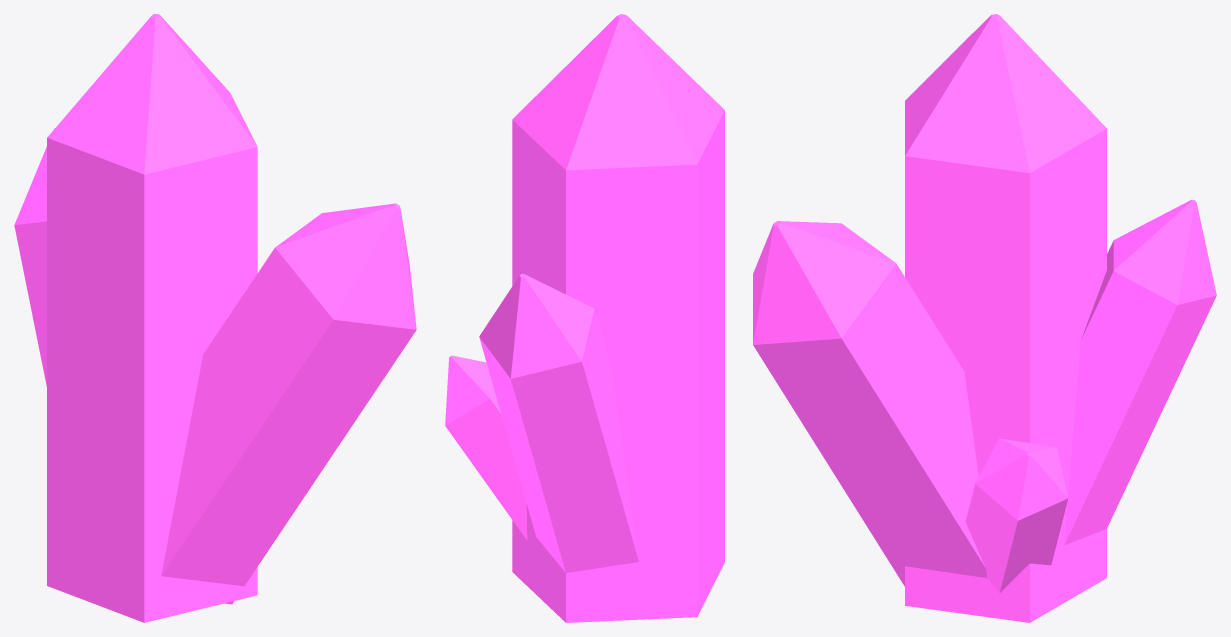
Rendered from Cryatal_1.glb.
The picture shows the model from 3 angles, left to right: view 1: azimuth 30°, elevation 25°; view 2: azimuth 150°, elevation 25°; view 3: azimuth 270°, elevation 25°; orthographic projection.
Parts seen in each view (by area): view 1: Cylinder.003; view 2: Cylinder.003; view 3: Cylinder.003.
Part boxes in pixels (x1,y1,x2,y2): Cylinder.003: (14,14,416,622); Cylinder.003: (445,14,724,622); Cylinder.003: (753,14,1216,622).
Size of the model in its own units: 1.25 by 2.54 by 1.87.
